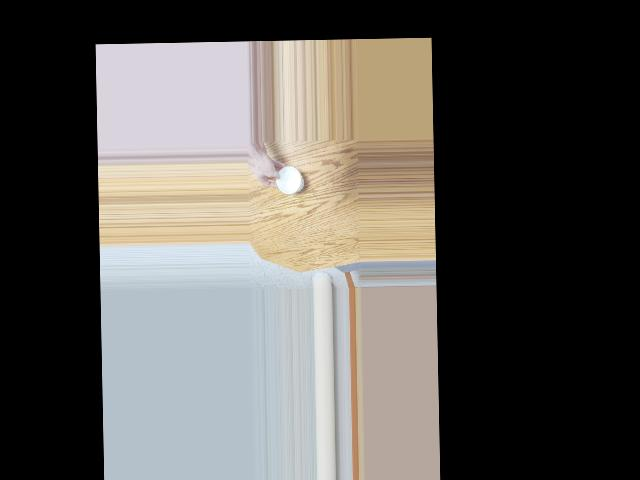cotage: (275, 166, 305, 199)
